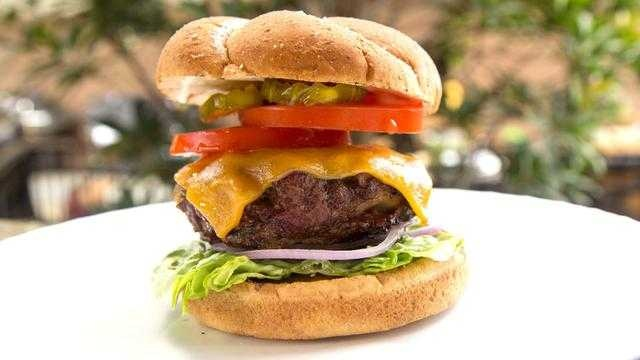hamburger: (164, 16, 462, 333)
